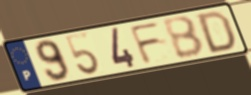4: (110, 26, 137, 70)
5: (63, 30, 103, 77)
9: (33, 37, 72, 82)
B: (160, 14, 207, 61)
D: (196, 10, 238, 55)
F: (127, 20, 163, 66)
